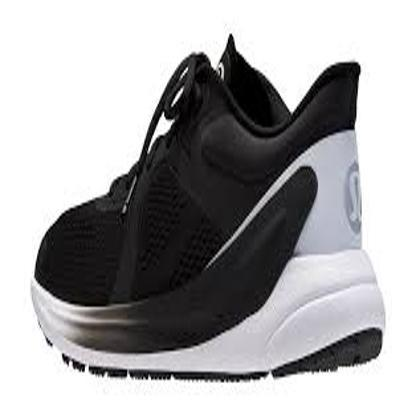not trash: (27, 27, 387, 386)
